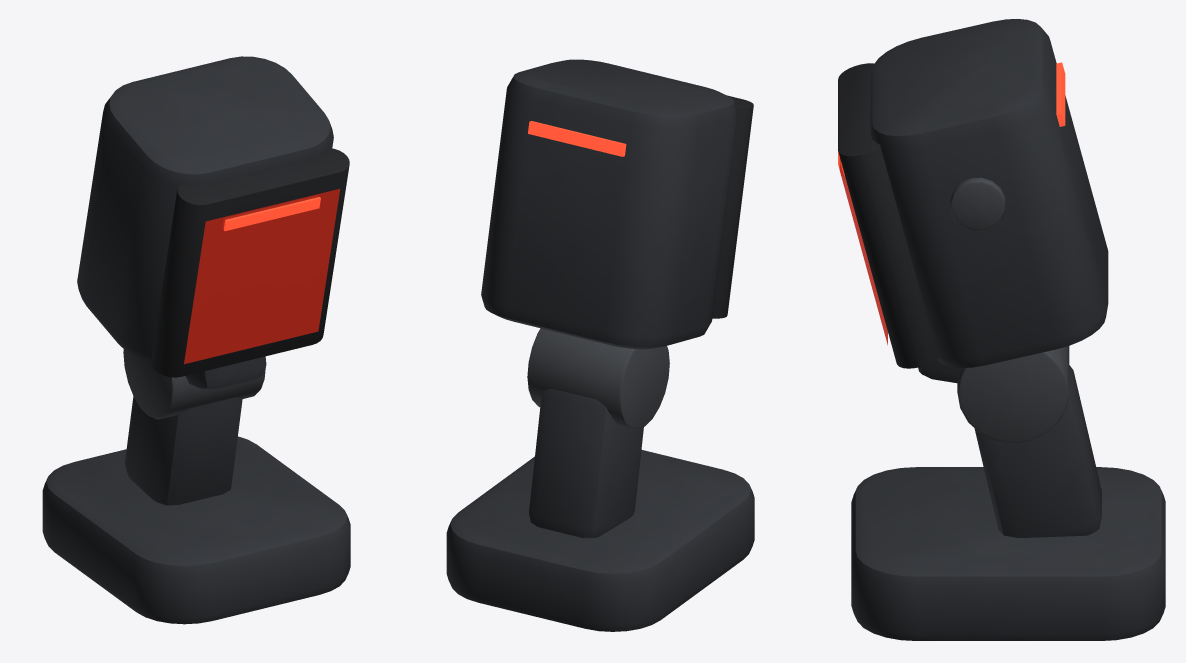
Rendered from barcode_scanner.glb.
3 views of the same model, side by side, from view 1: azimuth 30°, elevation 25°; view 2: azimuth 150°, elevation 25°; view 3: azimuth 270°, elevation 25° (orthographic). The views are drawn at different scales.
Visible parts, largest first — view 1: Scanner_Base, s_headshell, Scanner_Window, s_headfront, s_lower, s_knuckle, s_upper, Scanner_LED; view 2: s_headshell, Scanner_Base, s_lower, s_knuckle, s_headfront, Scanner_CashierLED; view 3: s_headshell, Scanner_Base, s_headfront, s_lower, s_knuckle, s_sidebtn, Scanner_Window, s_upper, Scanner_CashierLED.
Part boxes in pixels (x1=…): Scanner_Base: x1=42, y1=436, x2=350, y2=624; s_headshell: x1=77, y1=56, x2=333, y2=360; Scanner_Window: x1=184, y1=189, x2=340, y2=364; s_headfront: x1=151, y1=148, x2=349, y2=377; s_lower: x1=125, y1=396, x2=242, y2=505; s_knuckle: x1=123, y1=349, x2=265, y2=419; s_upper: x1=185, y1=356, x2=266, y2=390; Scanner_LED: x1=223, y1=197, x2=320, y2=231; s_headshell: x1=481, y1=59, x2=737, y2=349; Scanner_Base: x1=446, y1=449, x2=754, y2=631; s_lower: x1=529, y1=388, x2=643, y2=538; s_knuckle: x1=527, y1=328, x2=669, y2=430; s_headfront: x1=712, y1=95, x2=753, y2=318; Scanner_CashierLED: x1=528, y1=121, x2=626, y2=156; s_headshell: x1=870, y1=19, x2=1108, y2=368; Scanner_Base: x1=851, y1=467, x2=1165, y2=640; s_headfront: x1=838, y1=63, x2=938, y2=368; s_lower: x1=974, y1=365, x2=1101, y2=537; s_knuckle: x1=957, y1=346, x2=1069, y2=443; s_sidebtn: x1=950, y1=177, x2=1005, y2=230; Scanner_Window: x1=839, y1=157, x2=887, y2=345; s_upper: x1=918, y1=359, x2=961, y2=383; Scanner_CashierLED: x1=1056, y1=62, x2=1065, y2=126.
Size of the model in its own units: 0.12 by 0.2529 by 0.15.
Materials: 6 (3 with a texture image).
